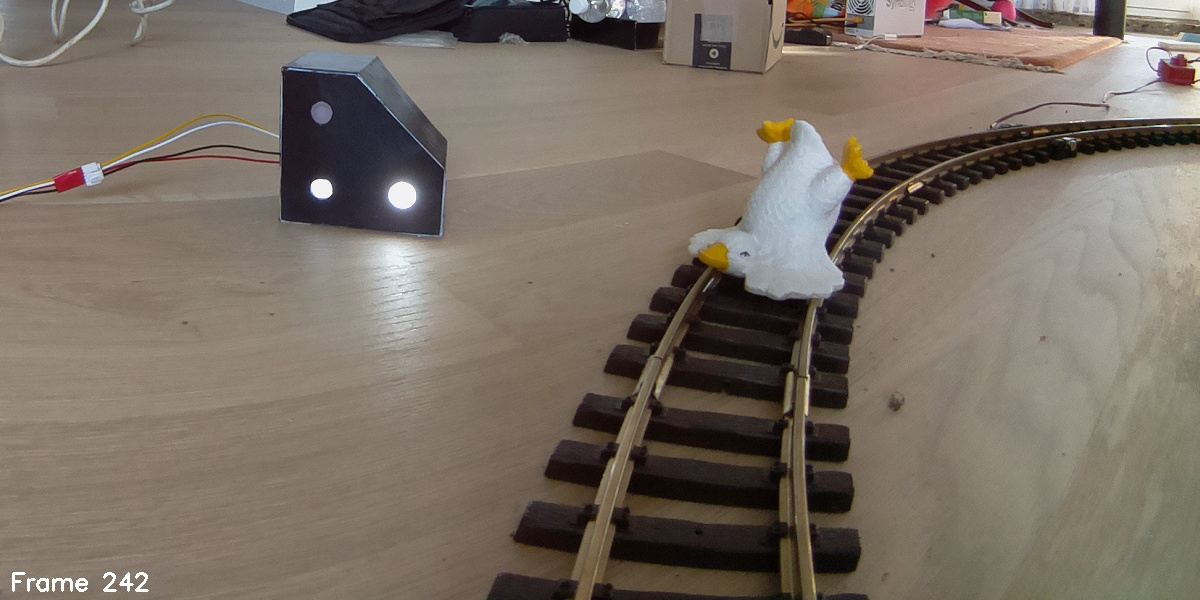Halt: (282, 45, 443, 236)
